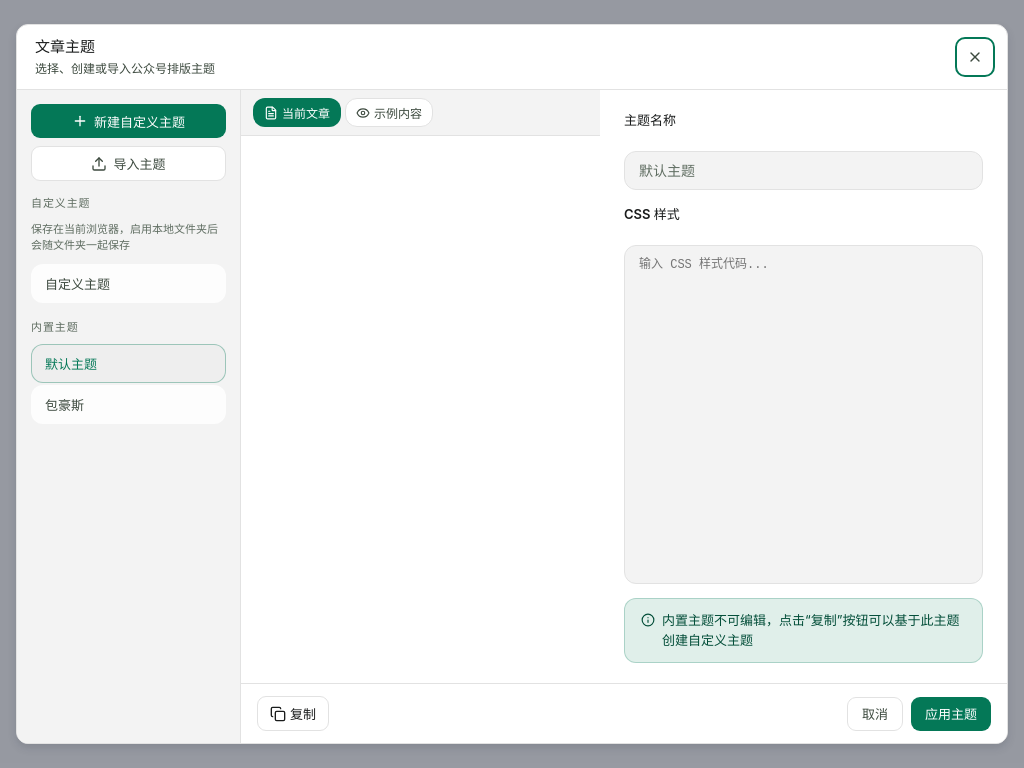
Scenario: ThemePanel › enters creation mode when new theme button clicked
This screenshot has width=1024, height=768.
Click the button "新建自定义主题". click: (128, 121)
box: top-left (31, 104), bottom-right (226, 138)
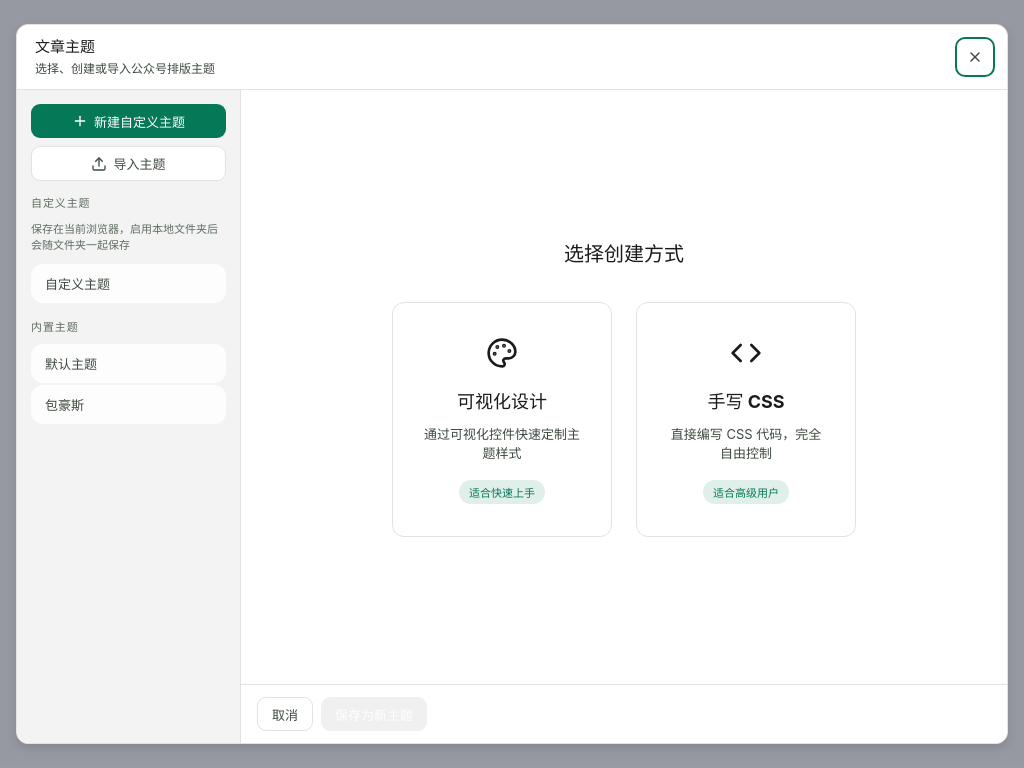
Check: the heading "选择创建方式" is shown, box top-left (564, 238), bottom-right (684, 270)
Check: the text "可视化设计" is shown, box top-left (457, 386), bottom-right (547, 412)
Check: the text "手写 CSS" is shown, box top-left (707, 386), bottom-right (785, 412)
